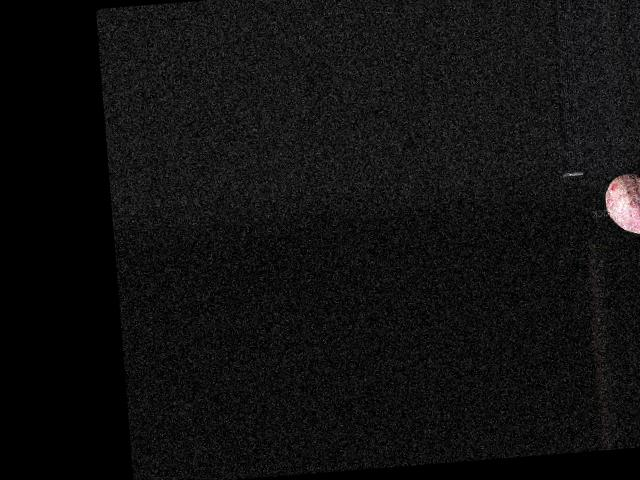beet: (602, 171, 640, 255)
